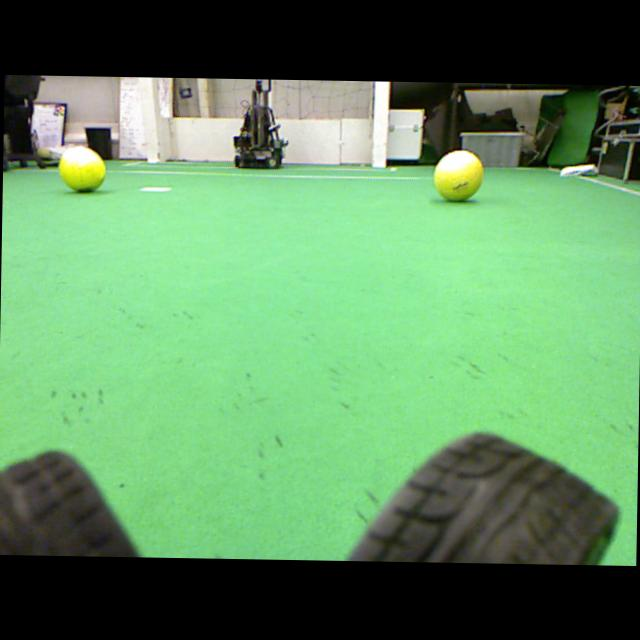ball: (434, 151, 482, 201), (58, 146, 105, 192)
goal: (139, 77, 159, 162), (373, 81, 389, 167)
robot: (233, 79, 288, 168)
